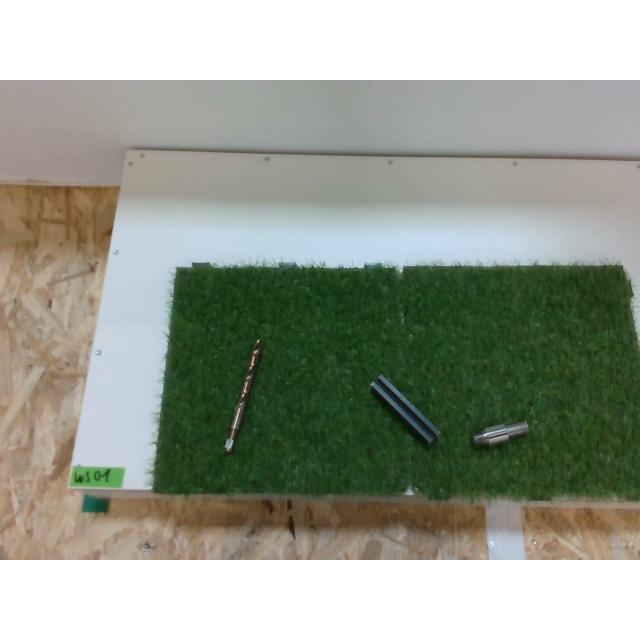Axis2: (472, 421, 528, 447)
Drill: (224, 338, 260, 452)
F20_20_B: (370, 375, 440, 443)
